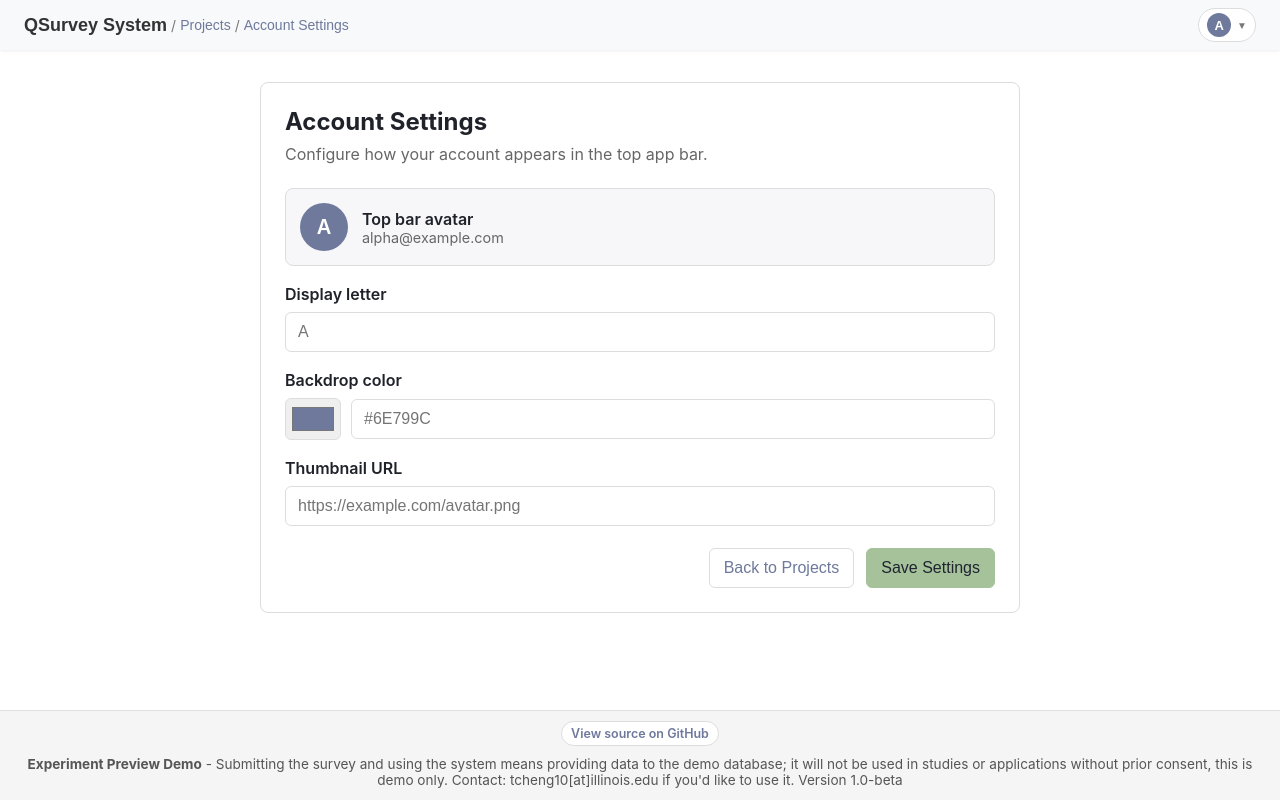
Scenario: AccountSettingsPage › does not preview or persist non-http thumbnail URLs
Step 1. Type "q" into the field labelled "Display letter" → [640, 332], box [285,312,995,352]
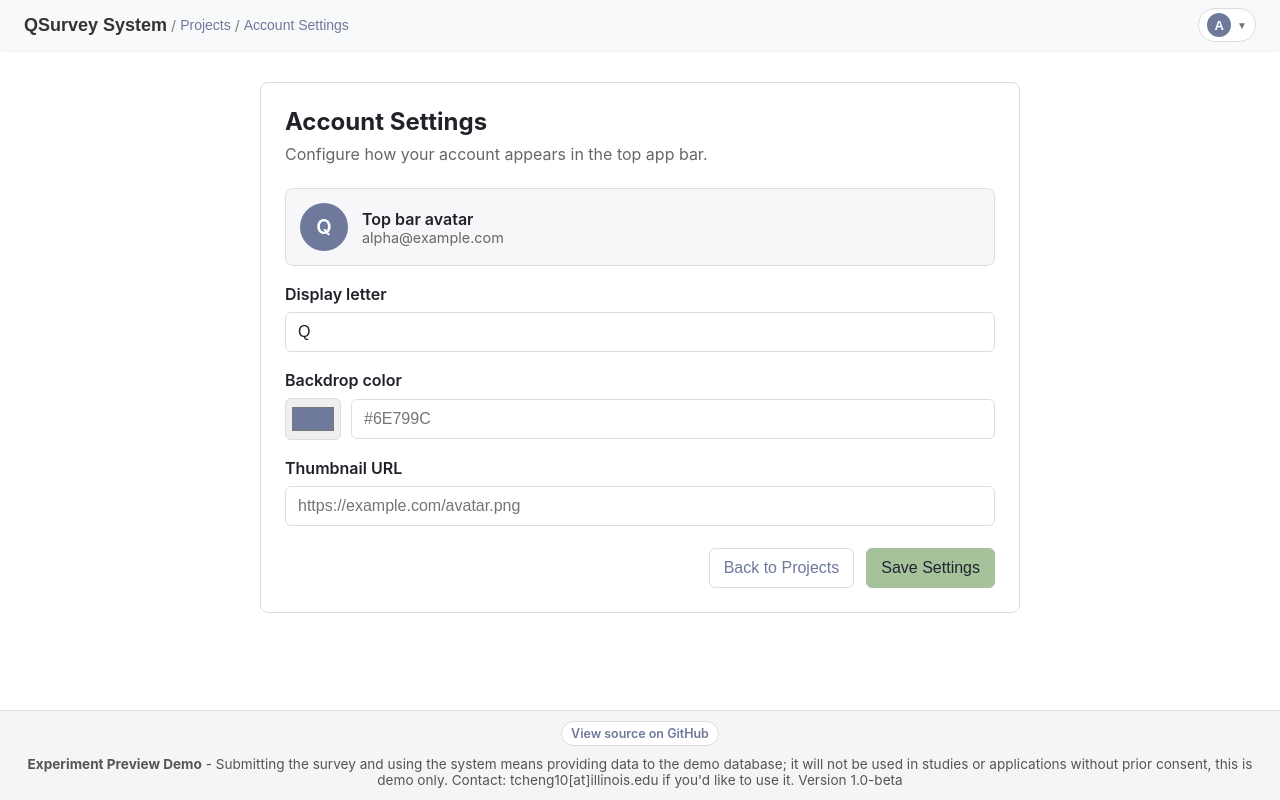
Step 2. Type "d ata:image/svg+xml,<svg></svg>" into the field labelled "Thumbnail URL" → [640, 506], box [285,486,995,526]
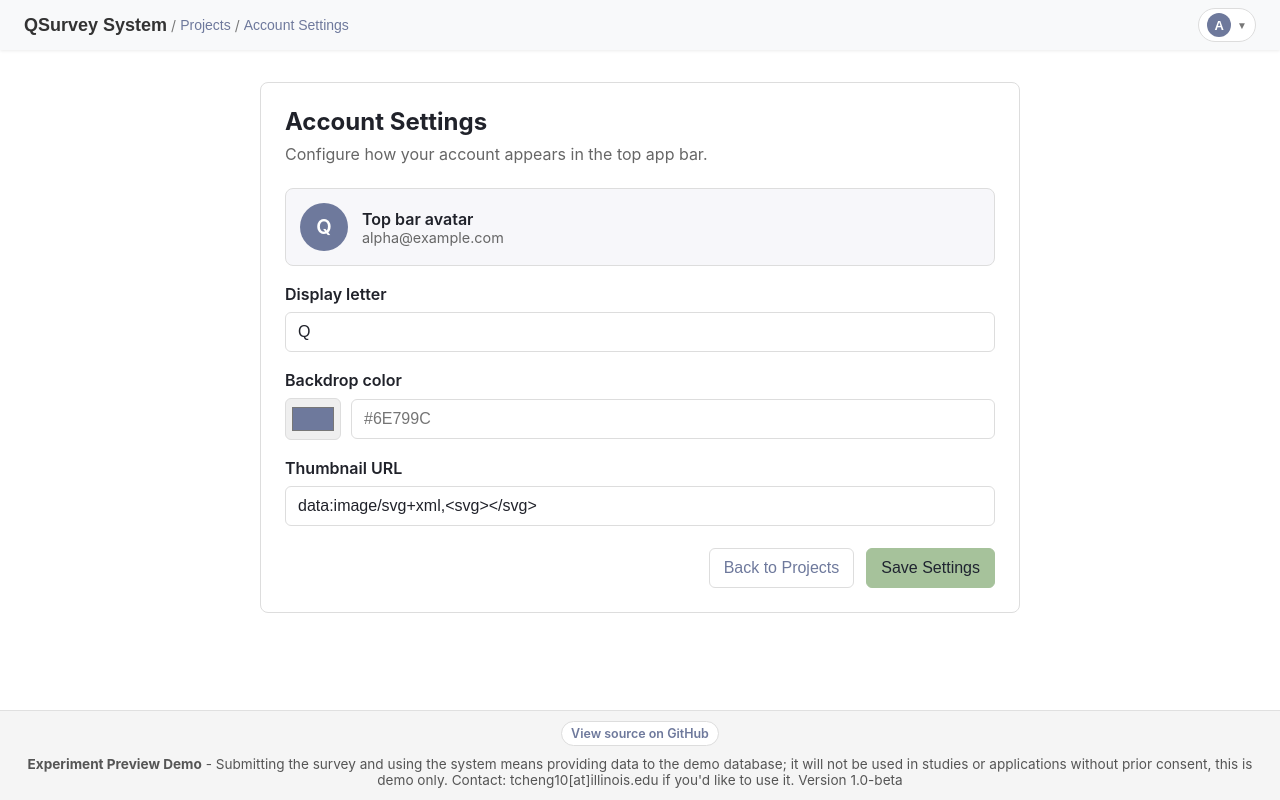
Now the picture named "Avatar preview" reads "Q", box [316,215,332,239]
Step 3. Click the button "Save Settings" → [931, 568], box [866,548,995,588]
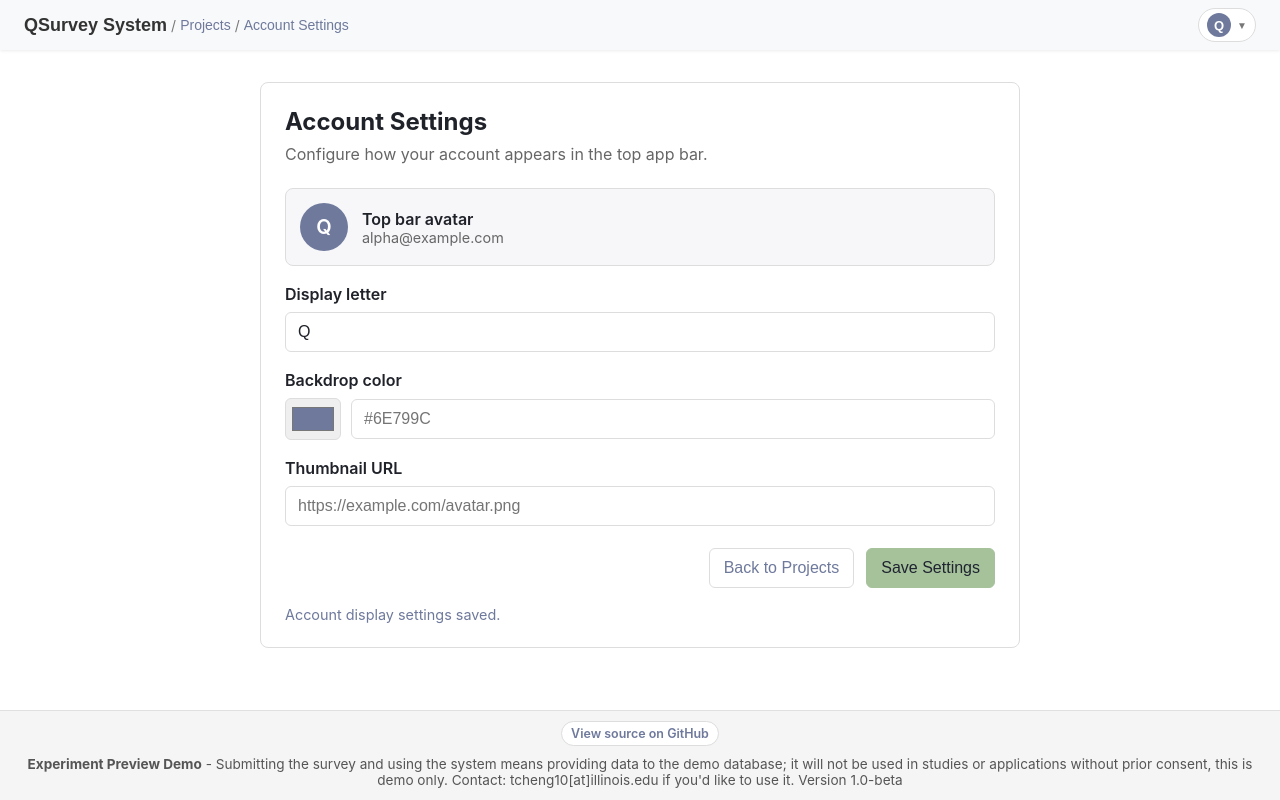
Now the message reads "Account display settings saved.", box [285,606,500,623]
